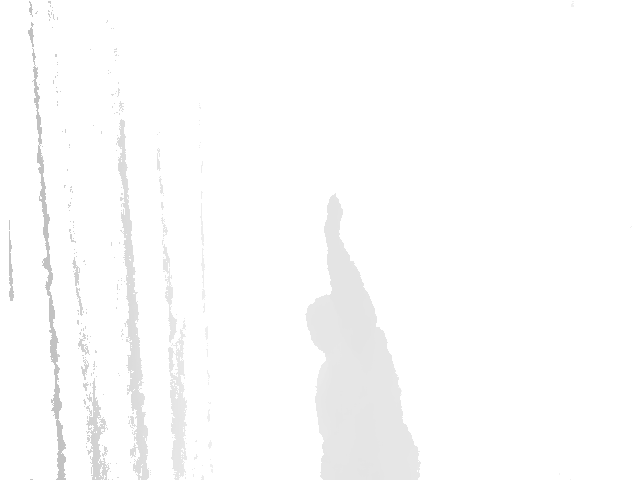hand: (320, 190, 344, 242)
head: (303, 291, 350, 357)
person: (305, 188, 426, 480)
